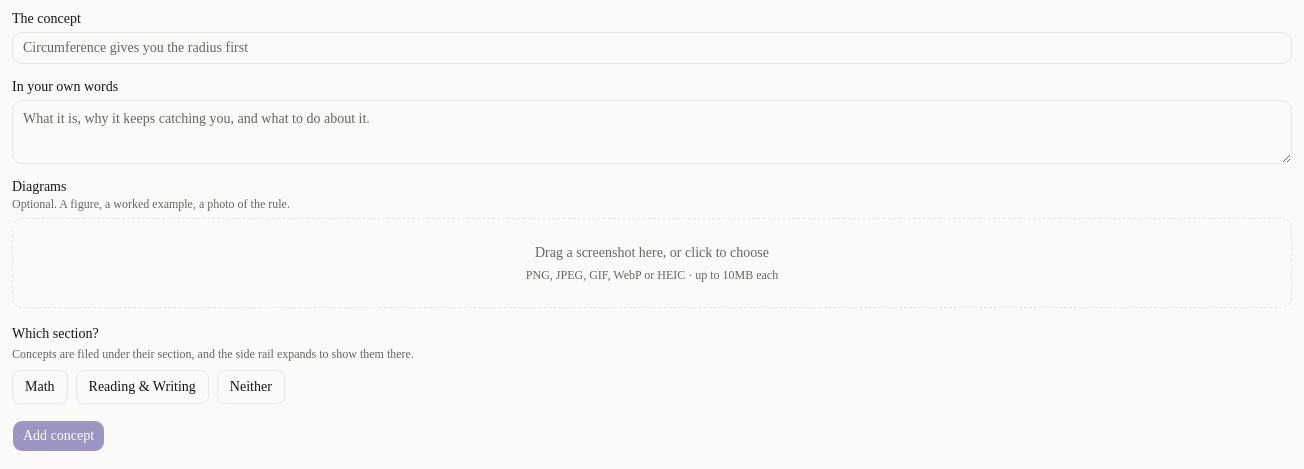
Test: ConceptForm section › will not save until a section is chosen
The image size is (1304, 469).
Type "Inverse trig needs a domain" into the field labelled "The concept" at point(652, 48), box left=12, top=32, right=1292, bottom=64
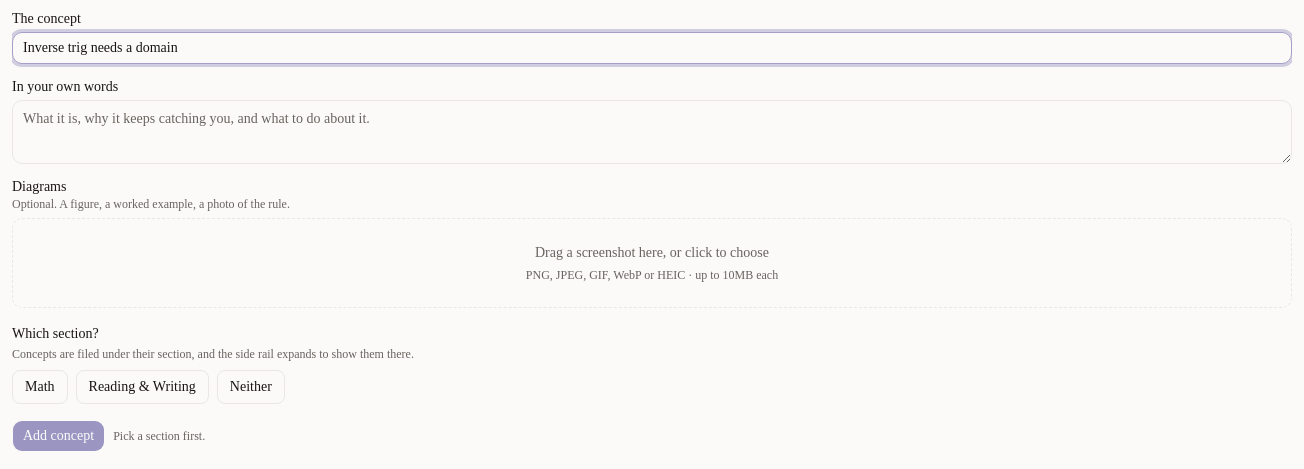
Expected: the button "Add concept" is disabled, left=12, top=420, right=105, bottom=452
Result: the text "Pick a section first." is shown at left=113, top=428, right=205, bottom=444
